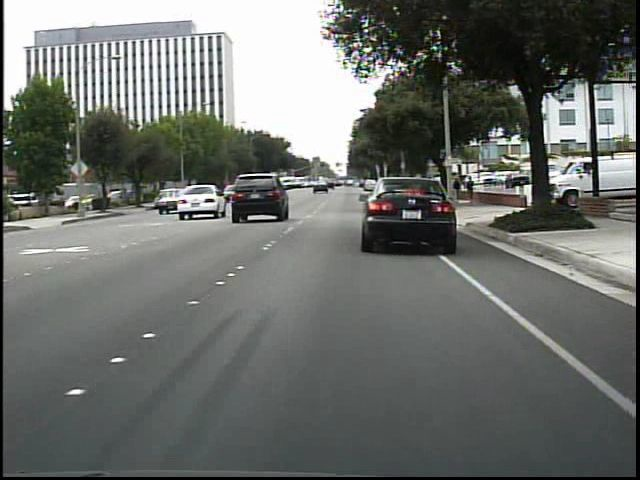person: (465, 174, 476, 204), (452, 177, 462, 204)
